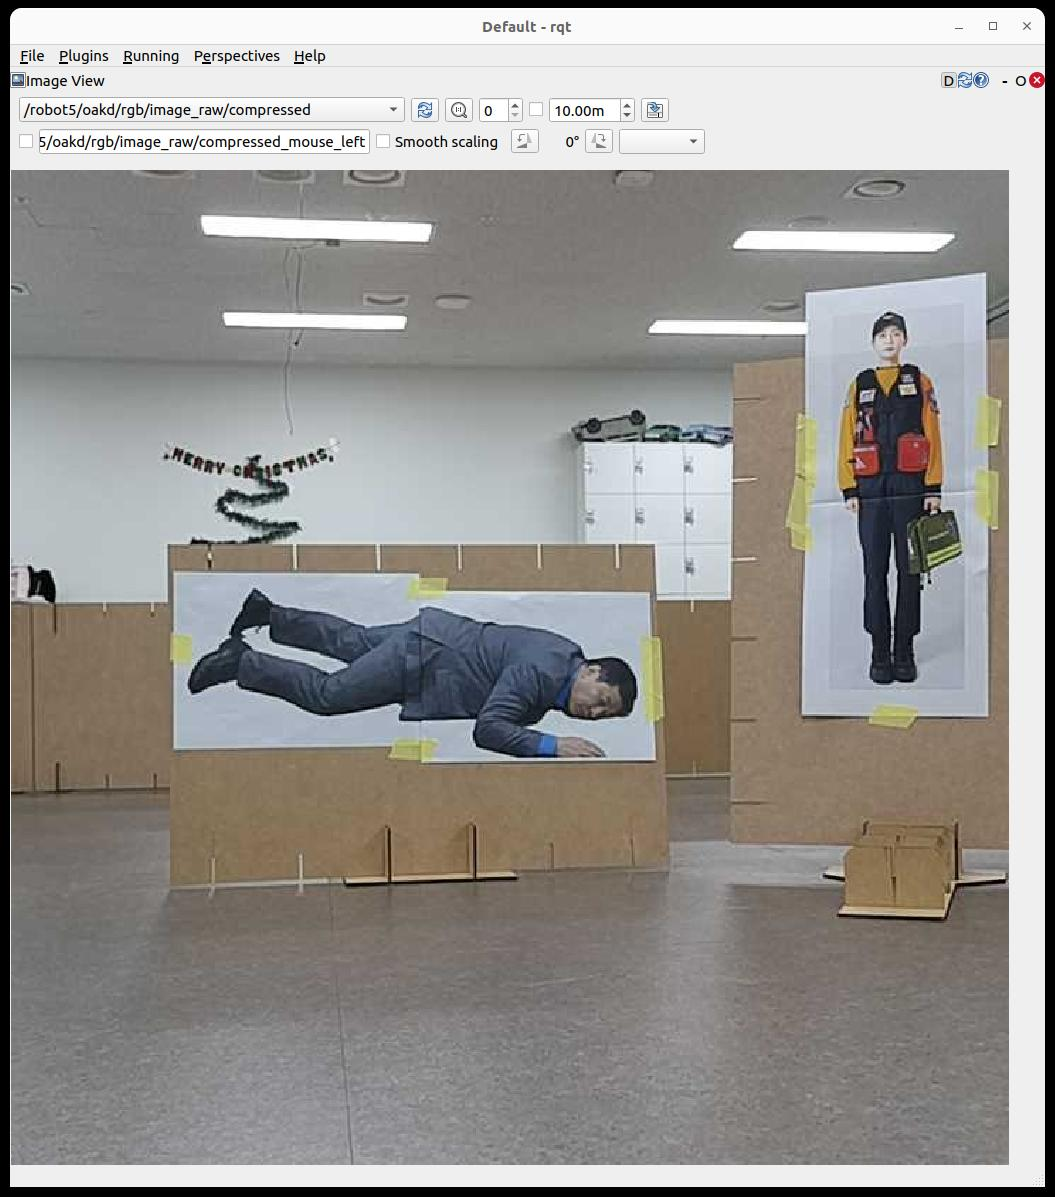Patient: (188, 590, 635, 758)
Responder: (838, 312, 961, 684)
